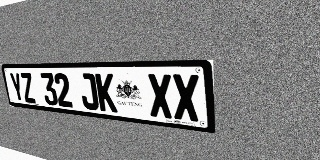2: (53, 73, 73, 108)
3: (40, 73, 59, 106)
J: (78, 73, 99, 111)
K: (95, 73, 118, 113)
X: (171, 74, 200, 122), (147, 74, 174, 119)
Y: (9, 73, 25, 102)
Z: (19, 73, 37, 104)
